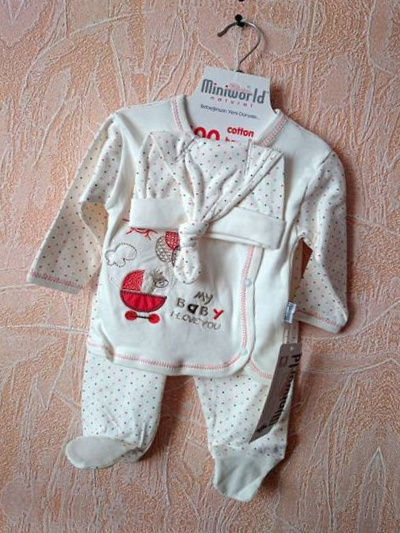Body: (0, 29, 386, 520), (0, 518, 318, 533)
